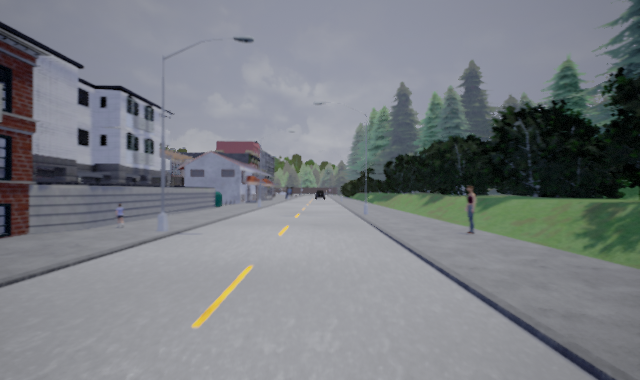pedestrian: (461, 183, 478, 236), (112, 201, 128, 228)
